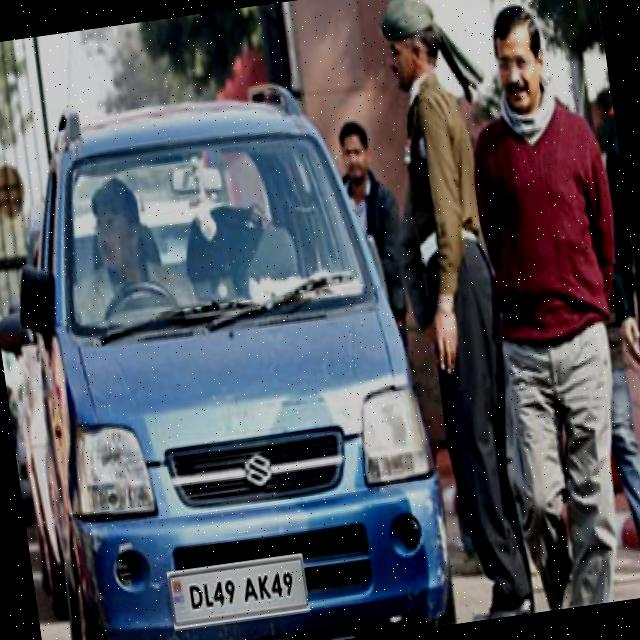Autre: (168, 548, 306, 628)
